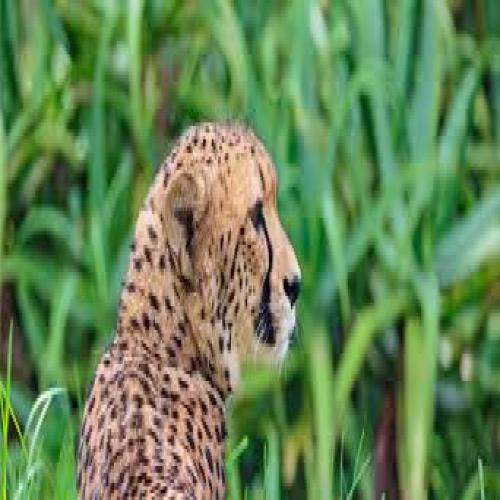cheetah-endangered: (76, 116, 302, 489)
